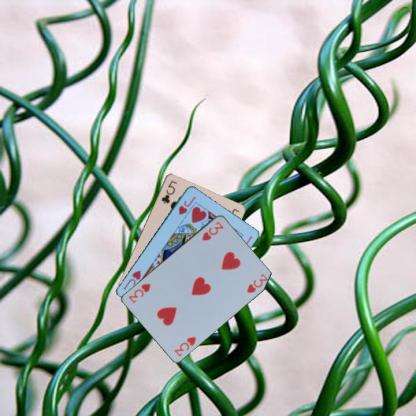3h: (172, 333, 197, 358), (199, 219, 225, 241)
5c: (159, 178, 178, 204)
Jh: (176, 193, 197, 216)
